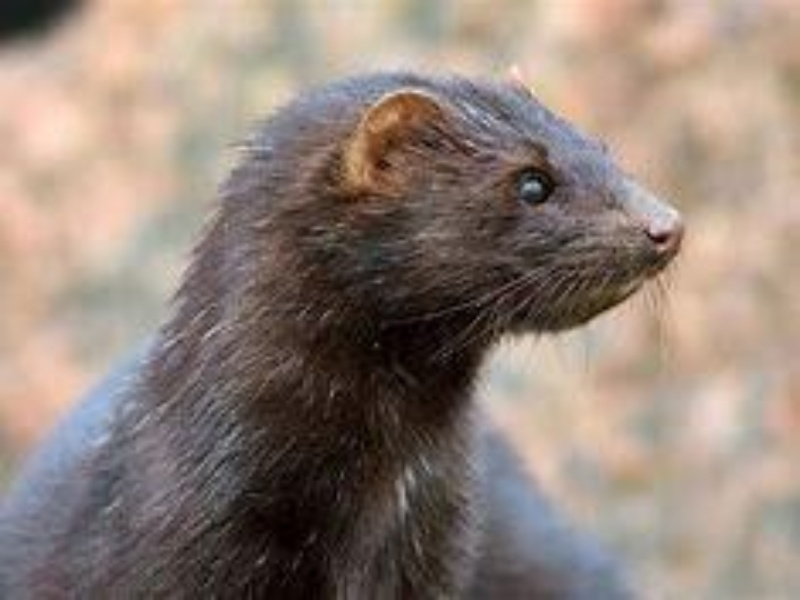minkish: (8, 56, 691, 593)
